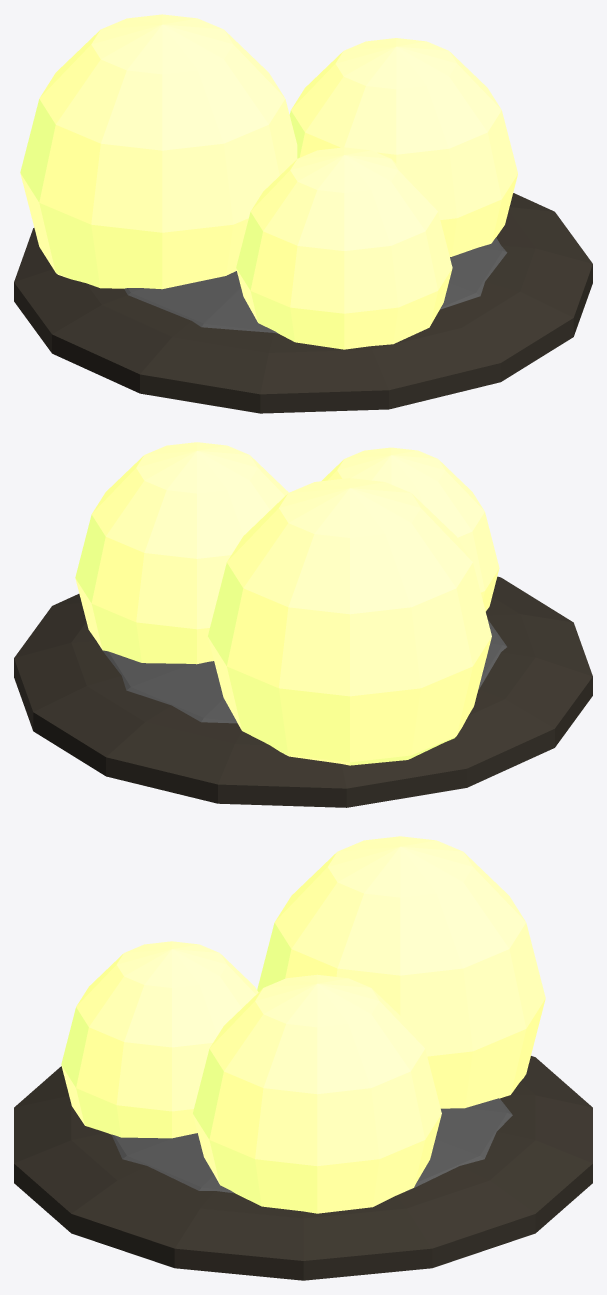
The model's file is bl_bladder.glb.
3 renders of one model, top to bottom at view 1: azimuth 30°, elevation 25°; view 2: azimuth 150°, elevation 25°; view 3: azimuth 270°, elevation 25°, orthographic. The views are drawn at different scales.
Parts seen in each view (by area): view 1: body; view 2: body; view 3: body.
Part boxes in pixels (x1,y1,x2,y2): body: [14, 14, 592, 413]; body: [14, 442, 592, 807]; body: [14, 836, 592, 1280].
Size of the model in its own units: 41.18 by 23.18 by 40.15.
